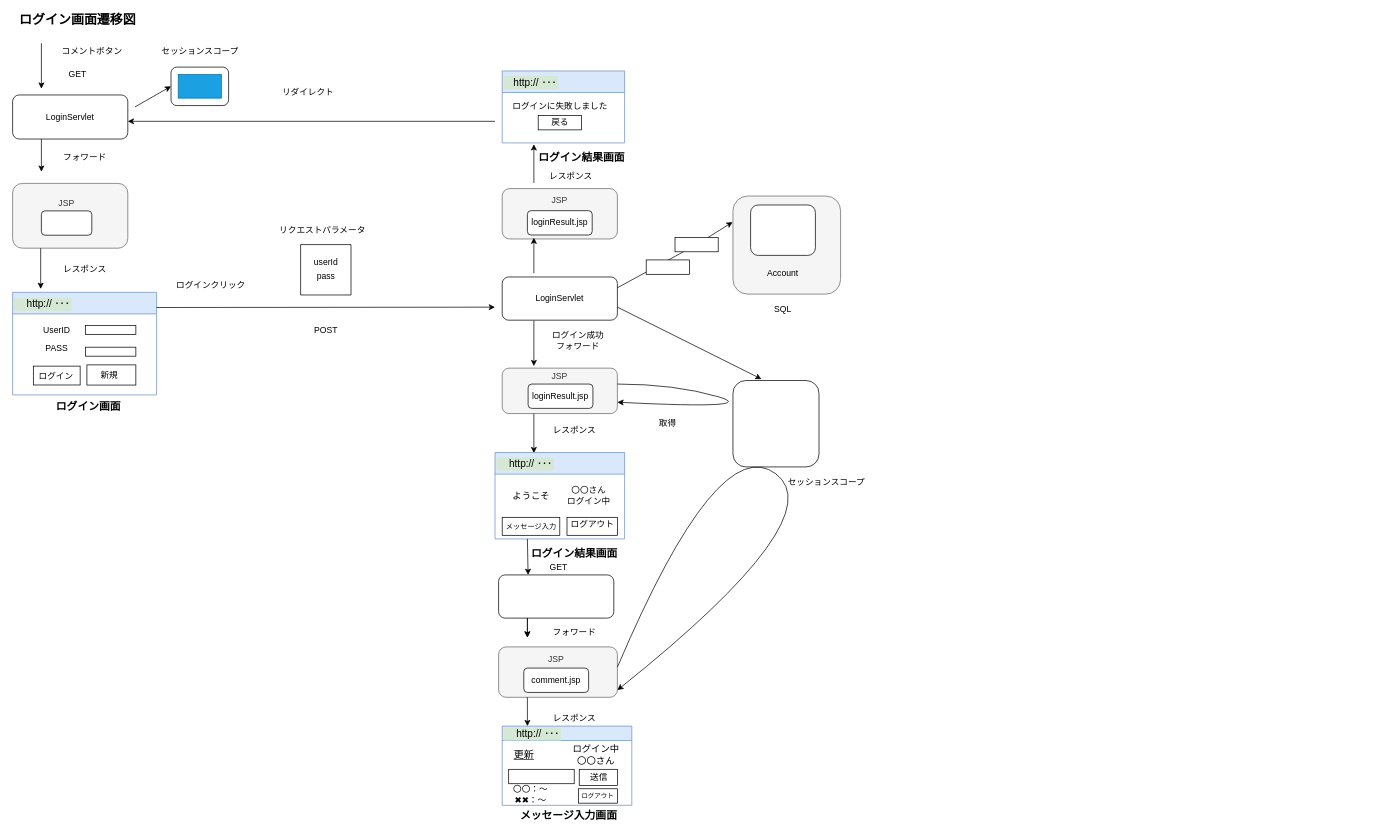
This 1400x834 diagram has some shape labels left out. Here are the shapes that lost their labels. From the top down, the centre of each, then its label:
the point at 199,86: Key
the point at 66,222: login.jsp
the point at 782,229: userId pass Name
the point at 696,244: DAO
the point at 667,266: BO
the point at 775,423: 名前 Id パスワード Key
the point at 556,596: CommentServlet
